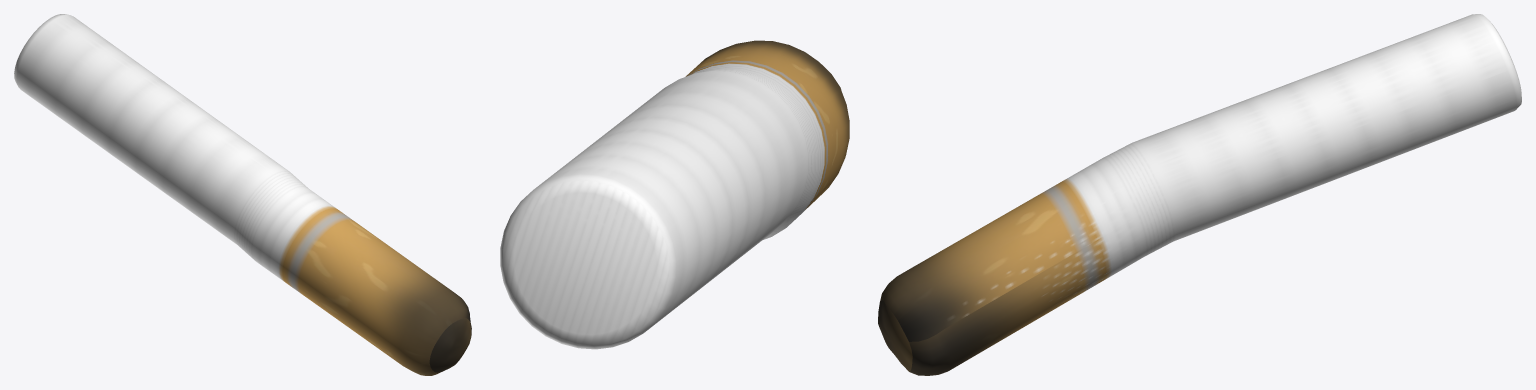
The model's file is cig.fbx.
3 renders of one model, left to right at view 1: azimuth 30°, elevation 25°; view 2: azimuth 150°, elevation 25°; view 3: azimuth 270°, elevation 25°, orthographic. The views are drawn at different scales.
Parts seen in each view (by area): view 1: Cylinder.031; view 2: Cylinder.031; view 3: Cylinder.031.
Boxes of the visible parts, x1=… form: Cylinder.031: x1=14, y1=14, x2=471, y2=375; Cylinder.031: x1=500, y1=40, x2=849, y2=349; Cylinder.031: x1=878, y1=14, x2=1521, y2=375.
Size of the model in its own units: 10 by 9.35 by 20.42.
